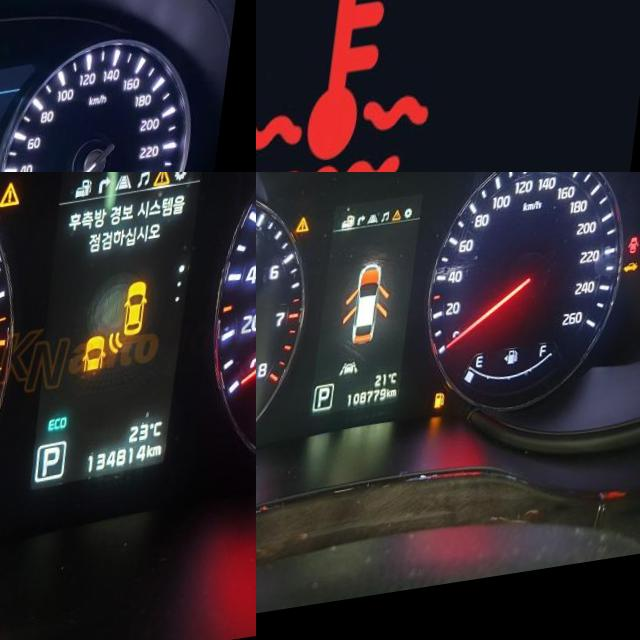Central Warning lamp: (1, 186, 25, 214), (156, 173, 175, 197)
Engine cooling system: (256, 0, 458, 172)
